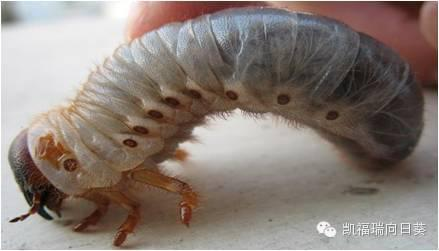grub: (9, 5, 434, 220)
